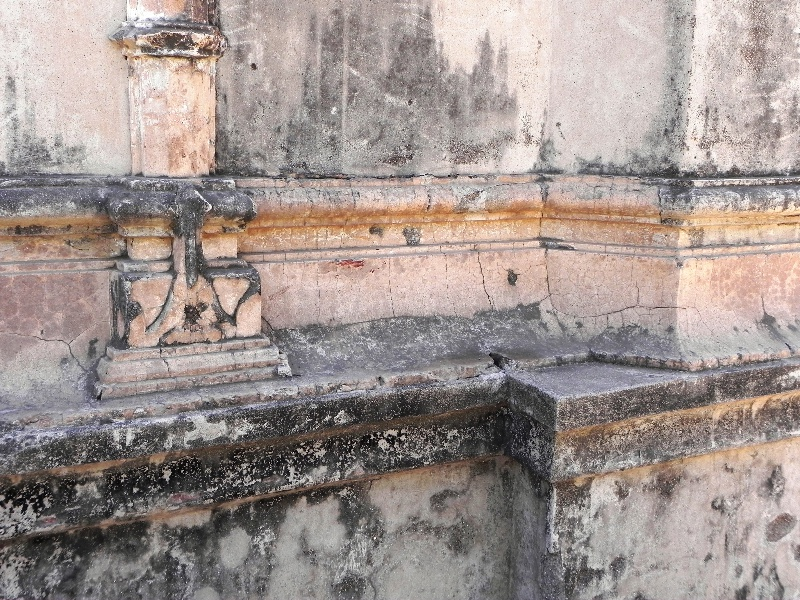Crack: (474, 256, 496, 309)
